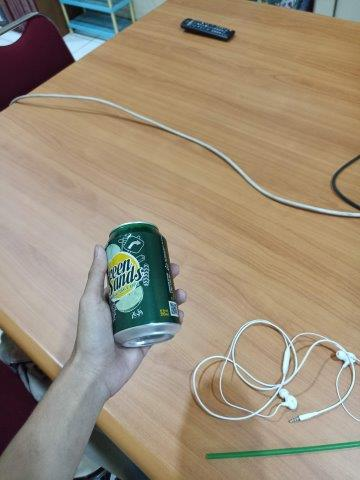kaleng: (105, 221, 182, 348)
